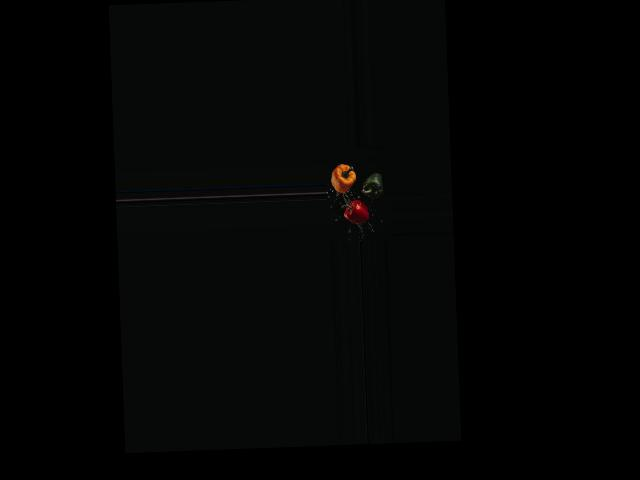bell_pepper: (337, 194, 374, 225)
